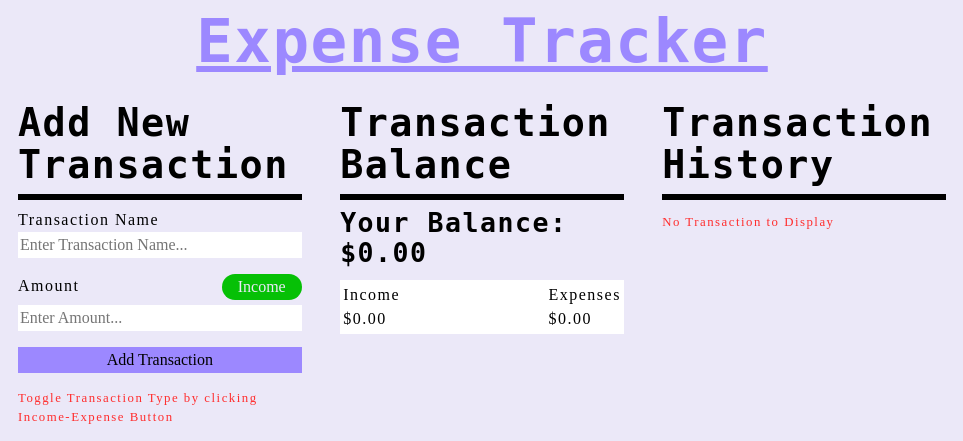
Test: App › it updates income form data
Step 1. Type "Rice" into the field with placeholder "Enter Transaction Name..." → (160, 245), box x1=18 y1=232 x2=302 y2=258
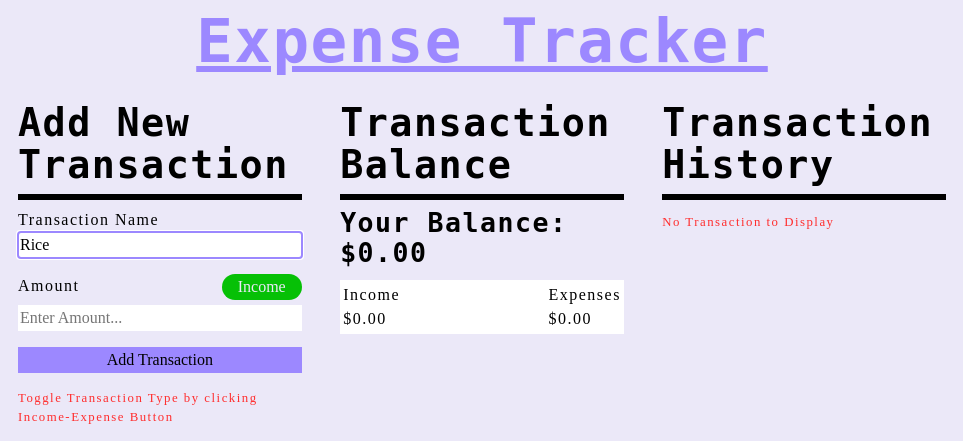
Step 2. Type "230" into the field with placeholder "Enter Amount..." → (160, 318), box x1=18 y1=305 x2=302 y2=331
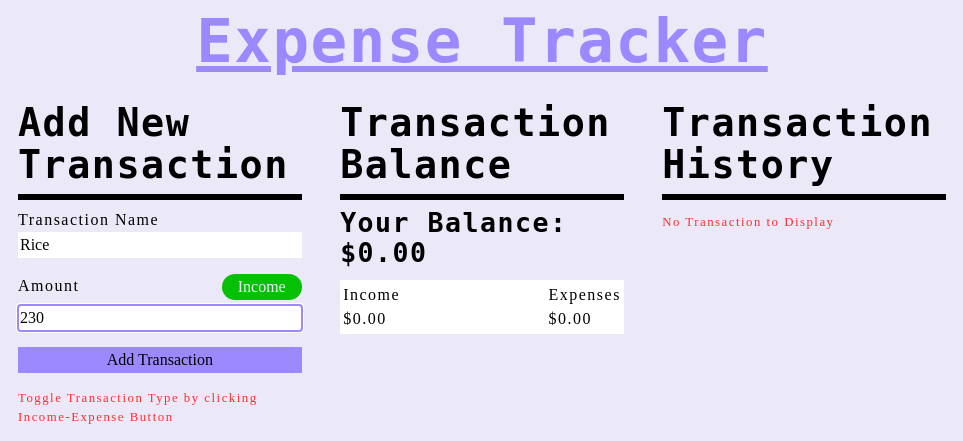
Step 3. Click the button "Add Transaction" → (160, 360), box x1=18 y1=347 x2=302 y2=373
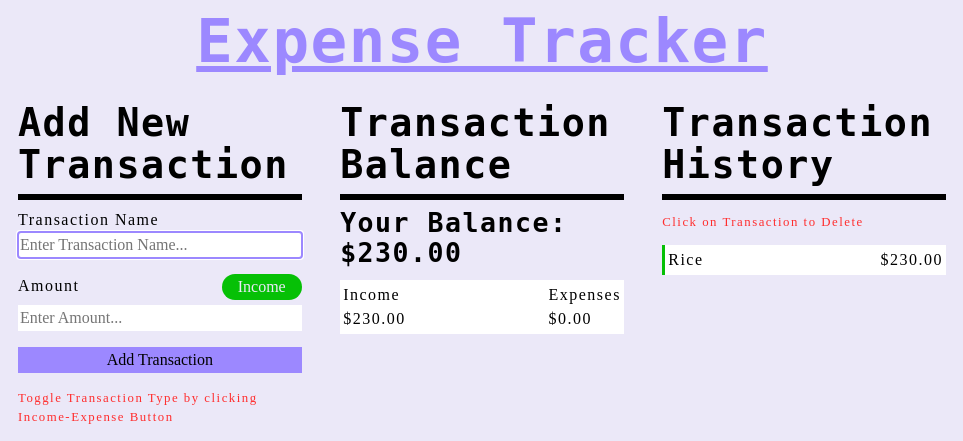
Expected: the heading "Your Balance: $230.00" is shown, x1=340 y1=207 x2=567 y2=268
Expected: the text "Click on Transaction to Delete" is shown, x1=662 y1=215 x2=864 y2=229
Expected: the list item is shown, x1=662 y1=245 x2=946 y2=275
